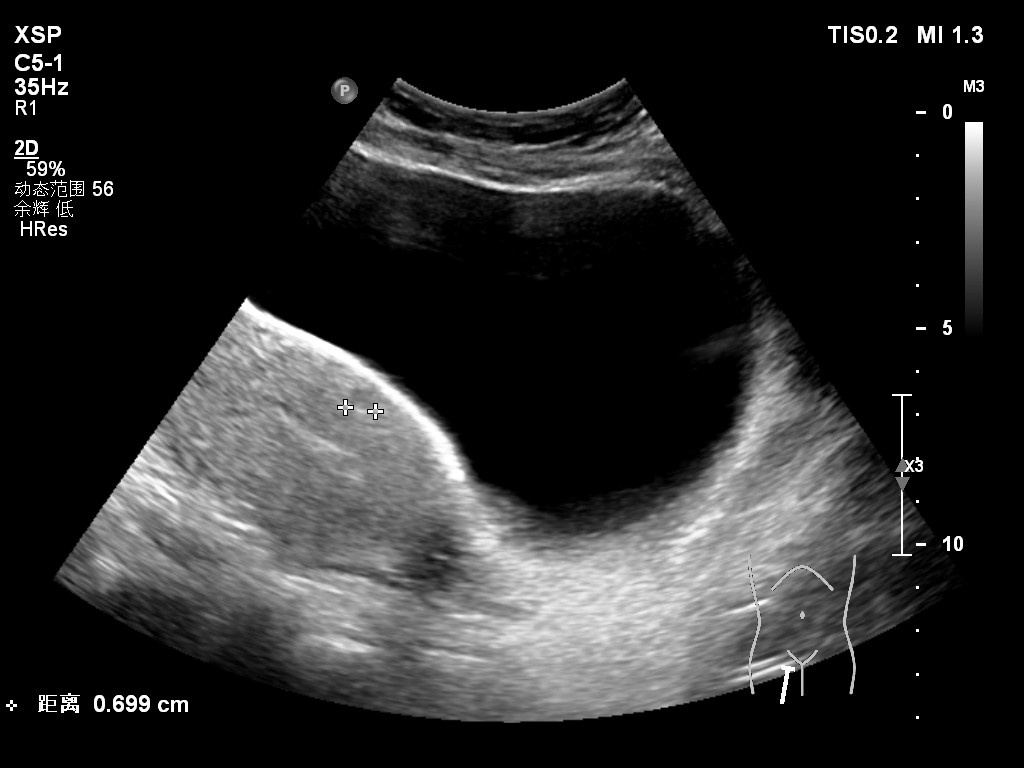肌瘤: (355, 385, 377, 408)
